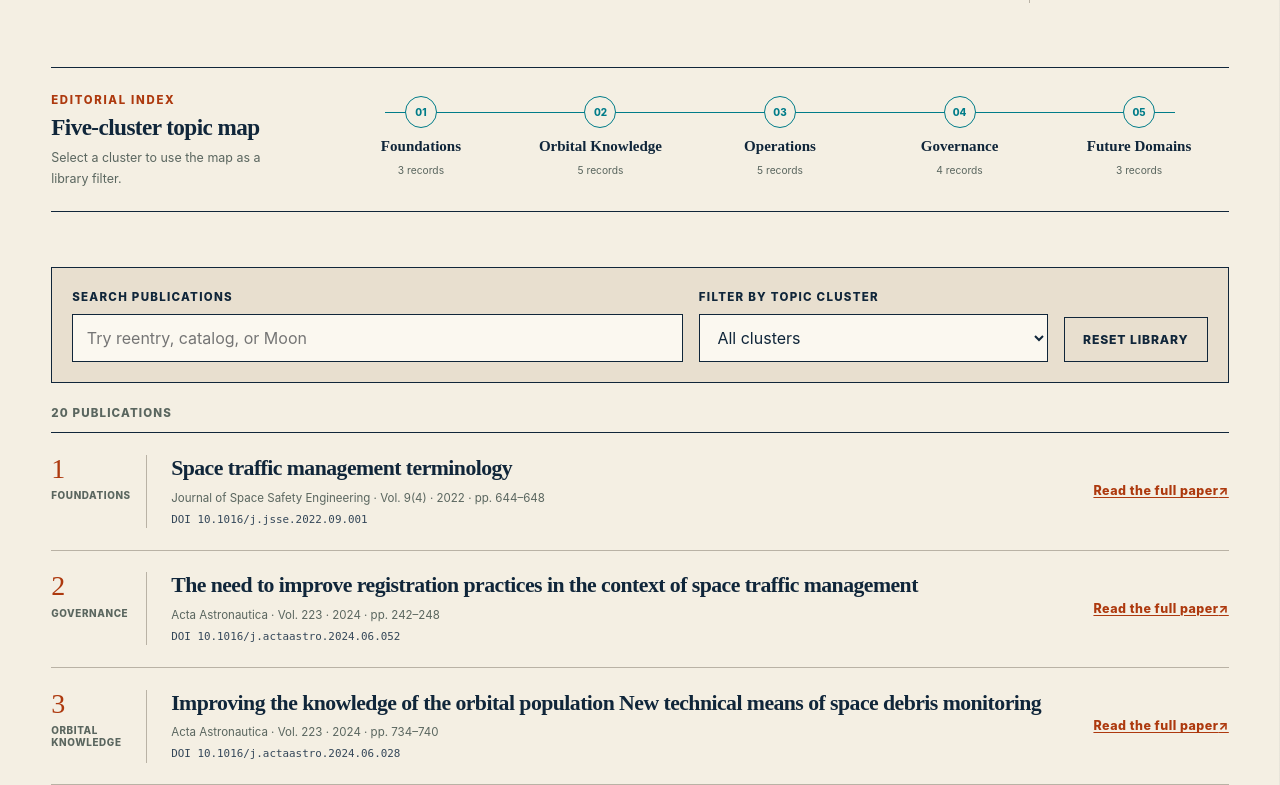
Scenario: editorial application › searches and cluster-filters the exact 20-record publication library
(page scrolled)
Check: the text "20 publications" is shown, box x1=51 y1=406 x2=172 y2=420
Type "reentry" into the search field labelled "Search publications".
click(378, 338); type("reentry")  # box x1=72 y1=314 x2=683 y2=362
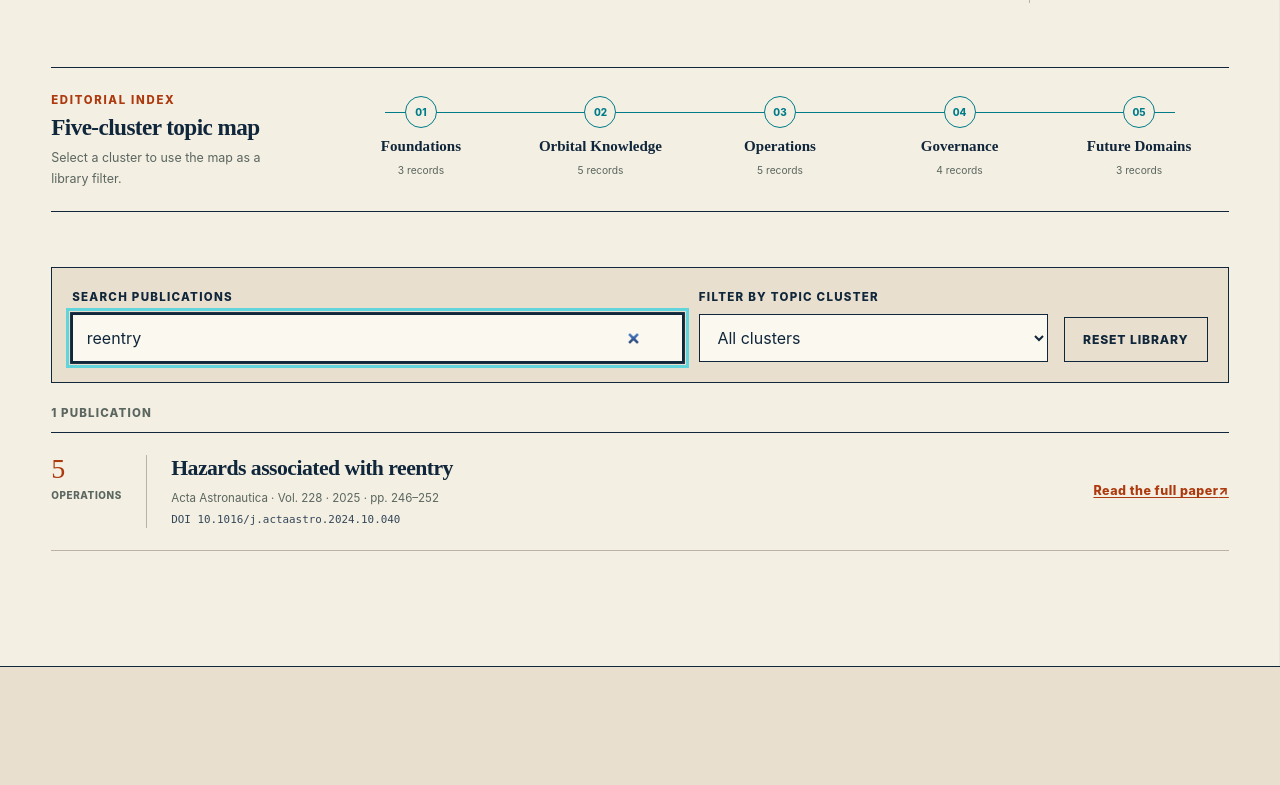
Check: the heading "Hazards associated with reentry" is shown, box x1=171 y1=456 x2=453 y2=480
Check: the text "1 publication" is shown, box x1=51 y1=406 x2=152 y2=420
Select "Future Domains" in the dropdown labelled "Filter by topic cluster" at (873, 338), box x1=699 y1=314 x2=1048 y2=362
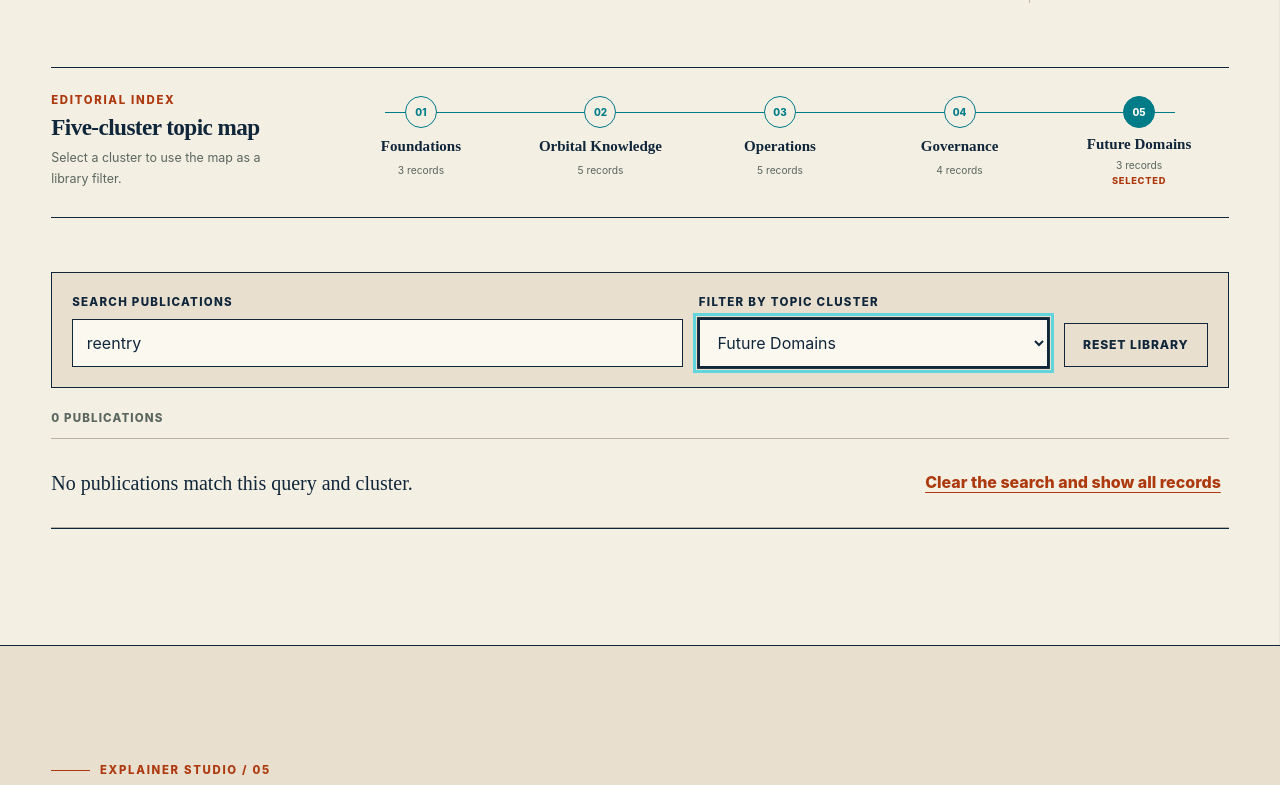
Check: the text "0 publications" is shown, box x1=51 y1=411 x2=164 y2=425
Check: the text "No publications match this query and cluster." is shown, box x1=51 y1=467 x2=413 y2=499
Click the button "Reset library".
click(1136, 345)  # box x1=1064 y1=323 x2=1208 y2=367
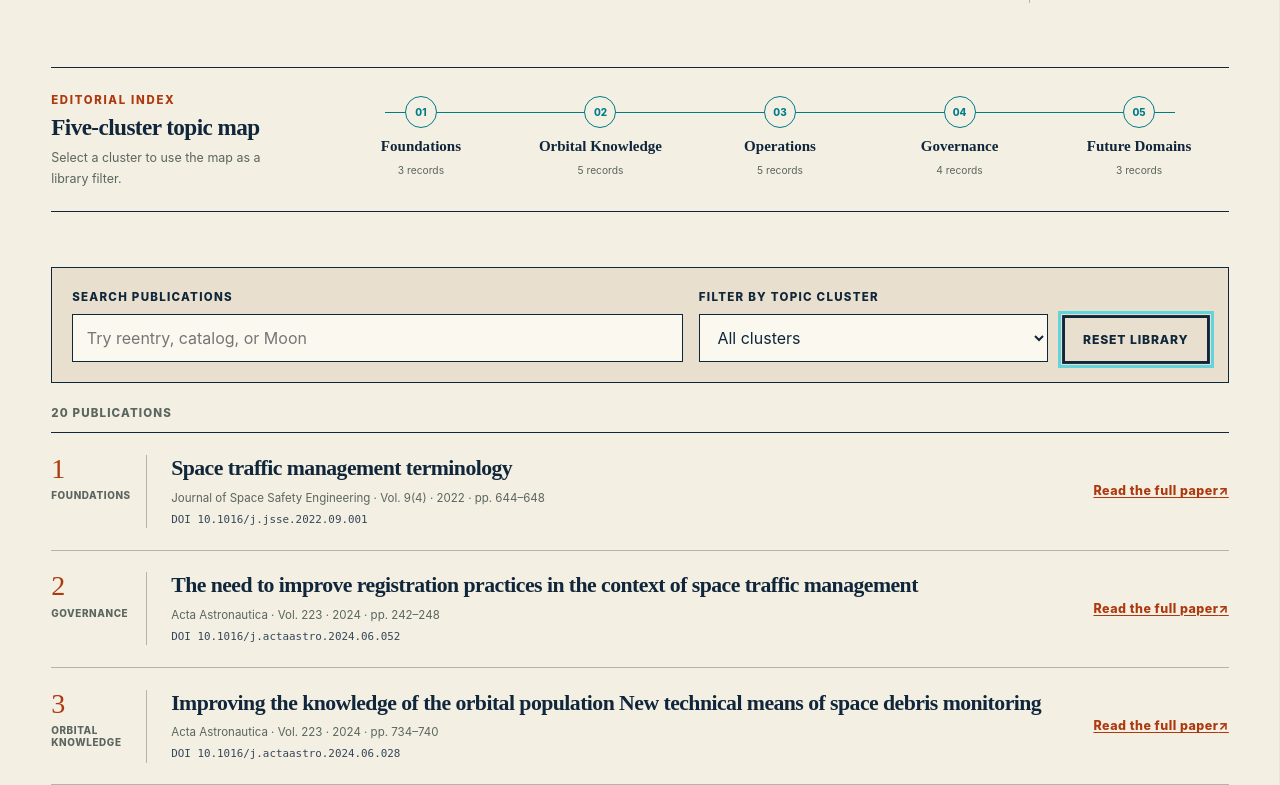
Check: the text "20 publications" is shown, box x1=51 y1=406 x2=172 y2=420
